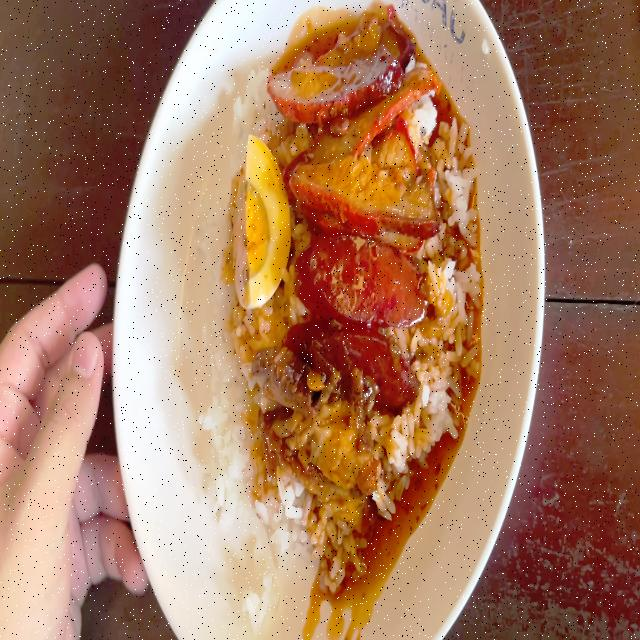boiled_egg: (234, 141, 287, 300)
chainese_sausage: (298, 235, 420, 393)
crispy_pork: (255, 368, 371, 512)
red_pork: (278, 40, 439, 233)
red_pork_and_crispy_pork: (204, 40, 457, 561)
rice: (212, 315, 261, 513), (419, 240, 462, 446), (372, 412, 417, 511), (236, 74, 278, 137)
